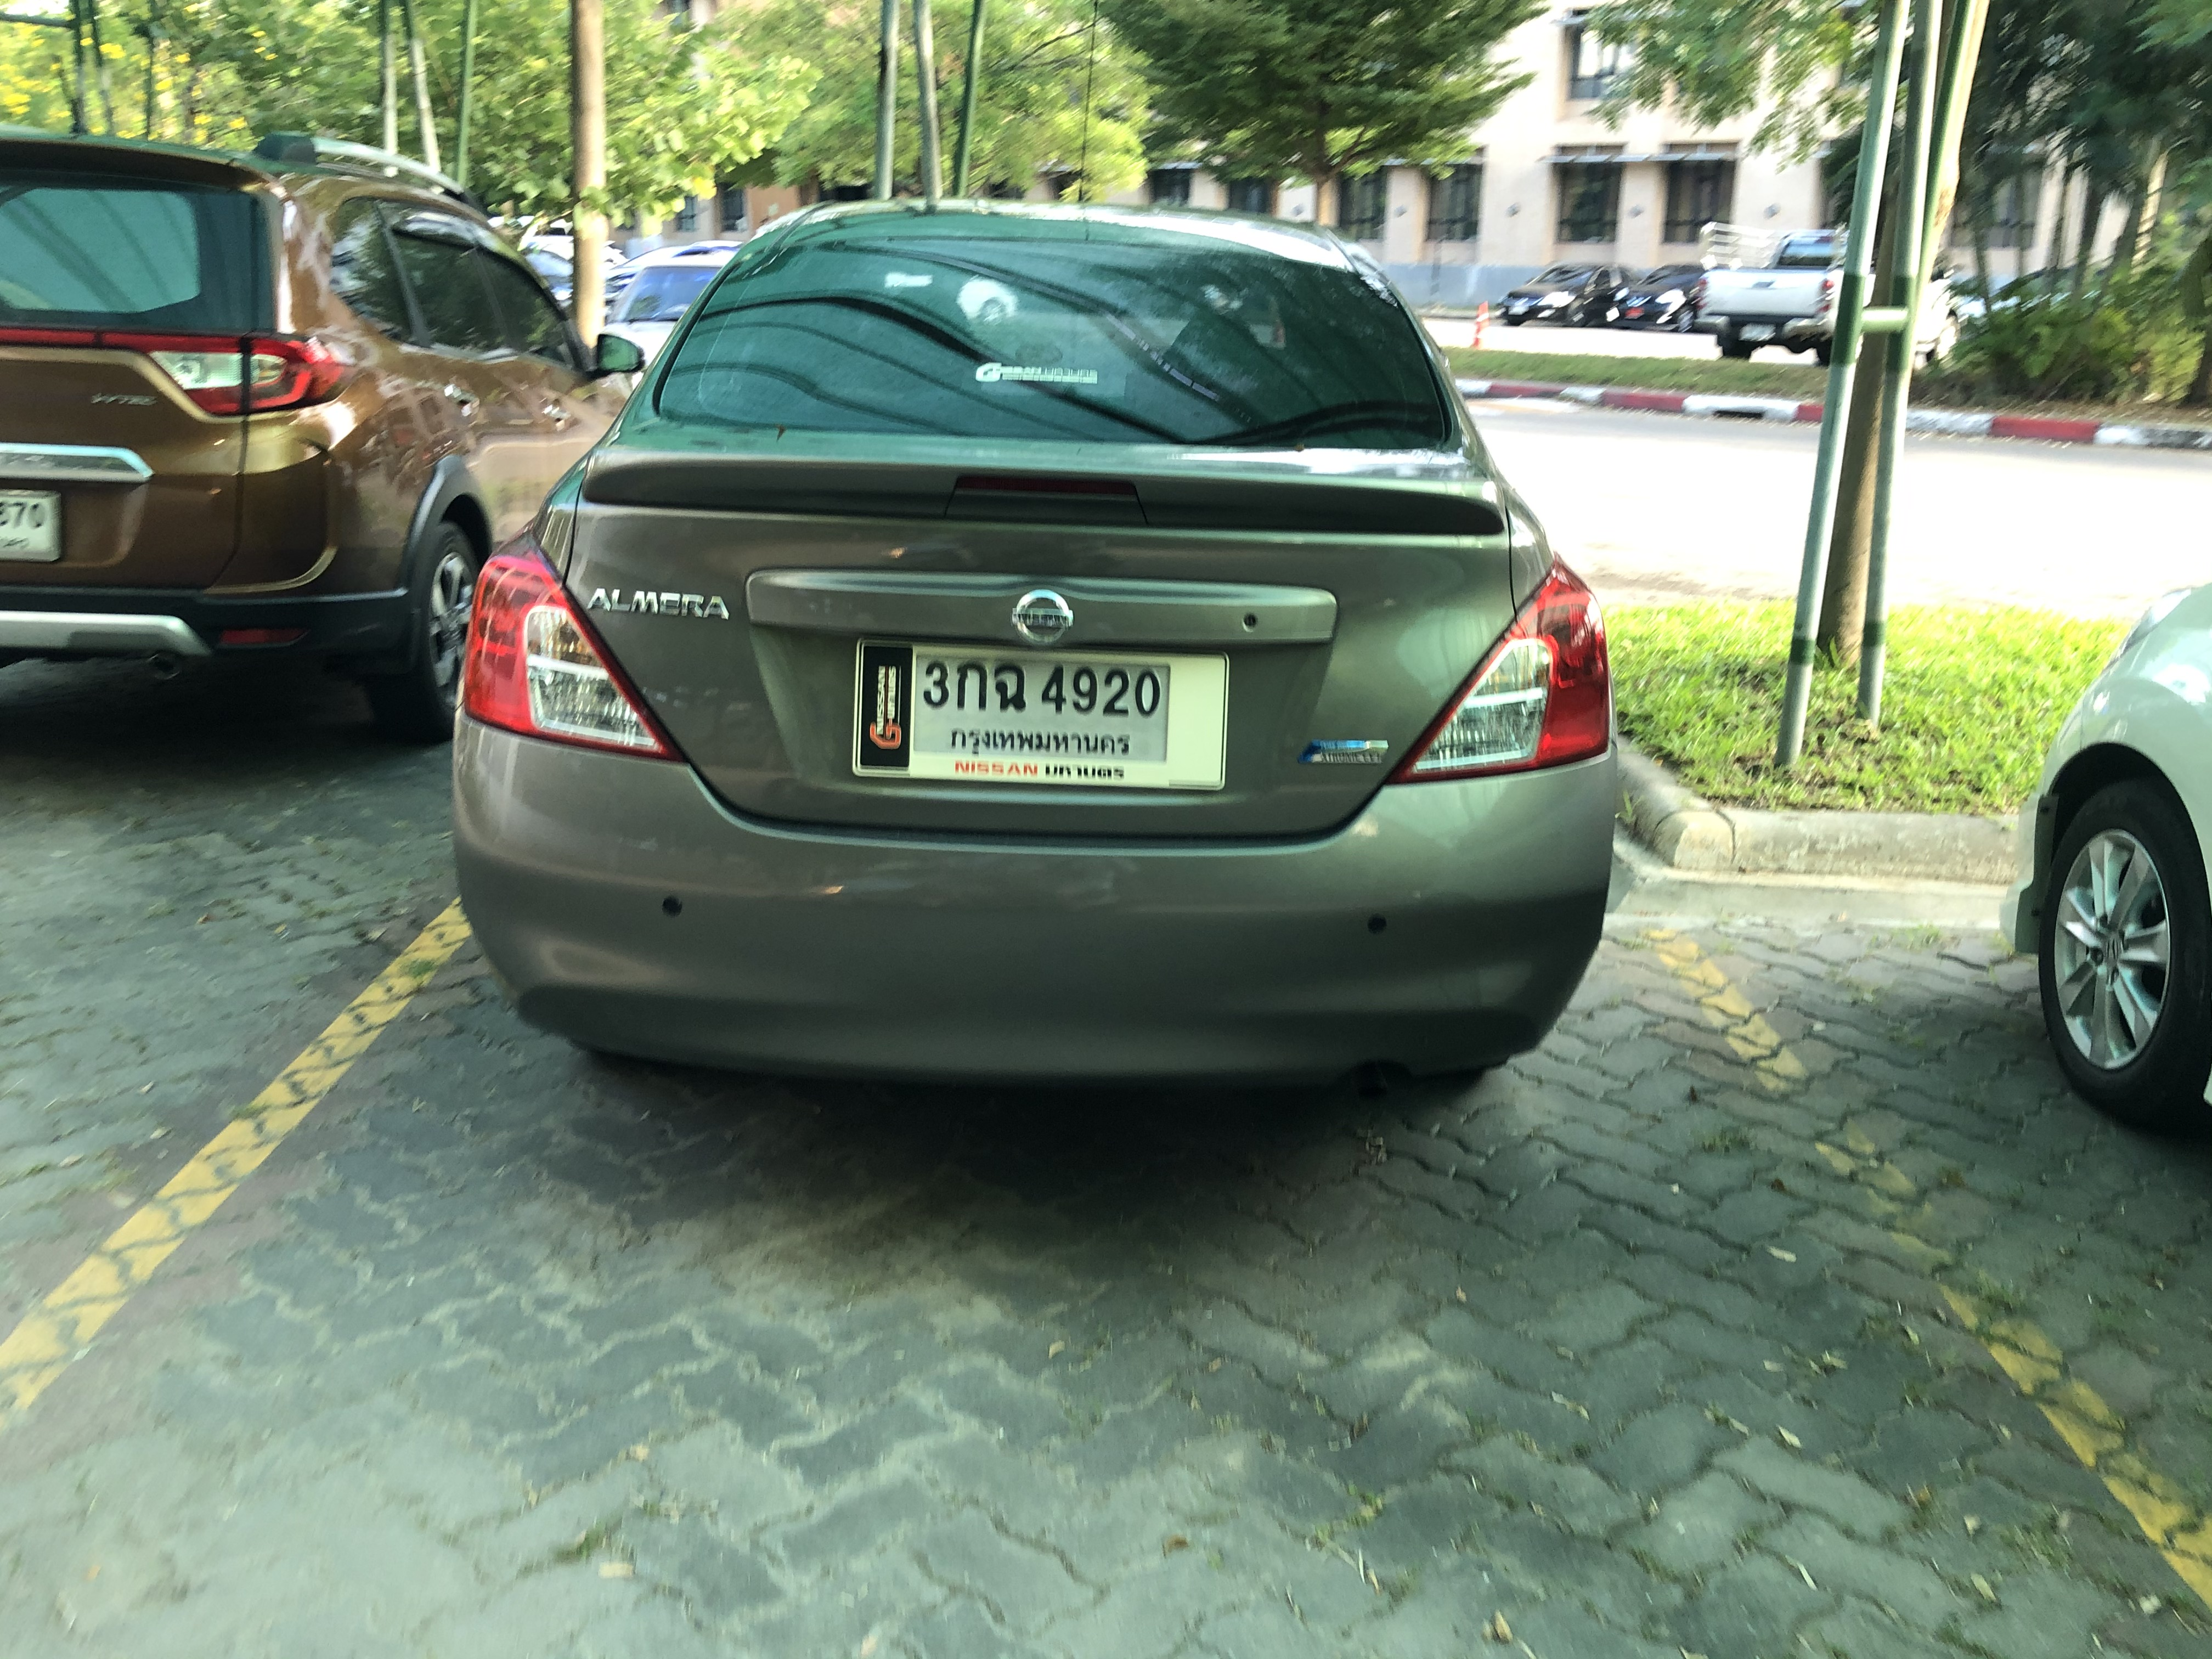in: (916, 659, 1169, 767)
out: (850, 633, 1233, 789)
